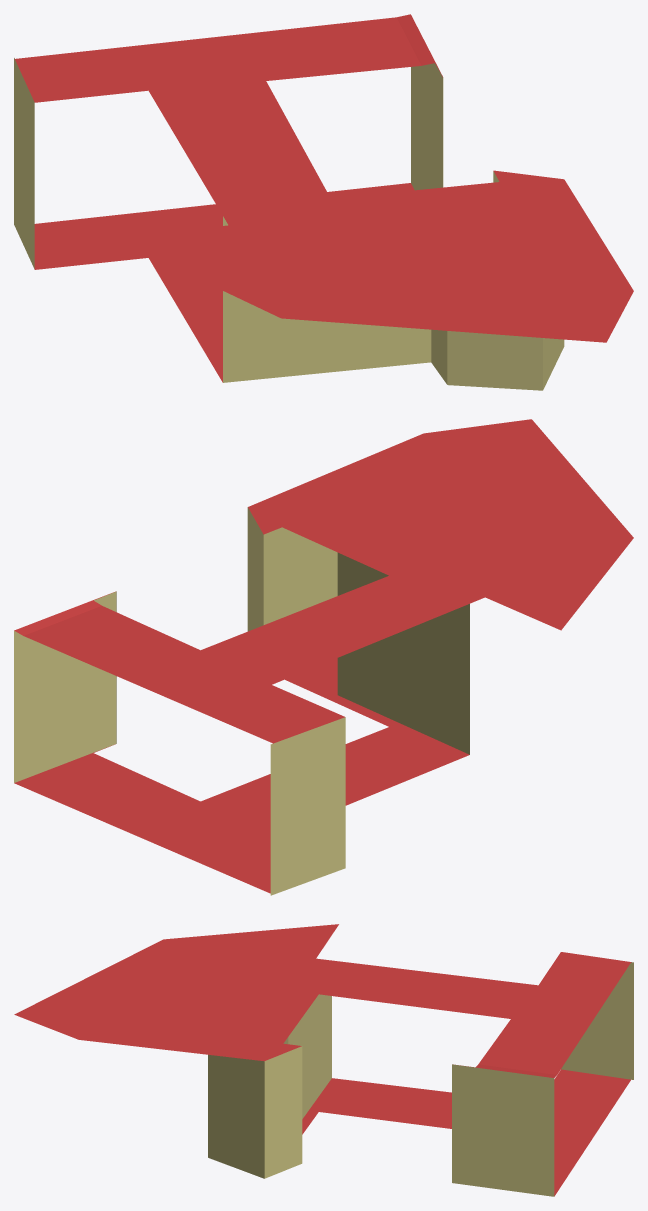
The picture shows the model from 3 angles, top to bottom: view 1: azimuth 30°, elevation 25°; view 2: azimuth 150°, elevation 25°; view 3: azimuth 270°, elevation 25°; orthographic projection. The views are drawn at different scales.
Size of the model in its own units: 20.44 by 34.52 by 7.29.
